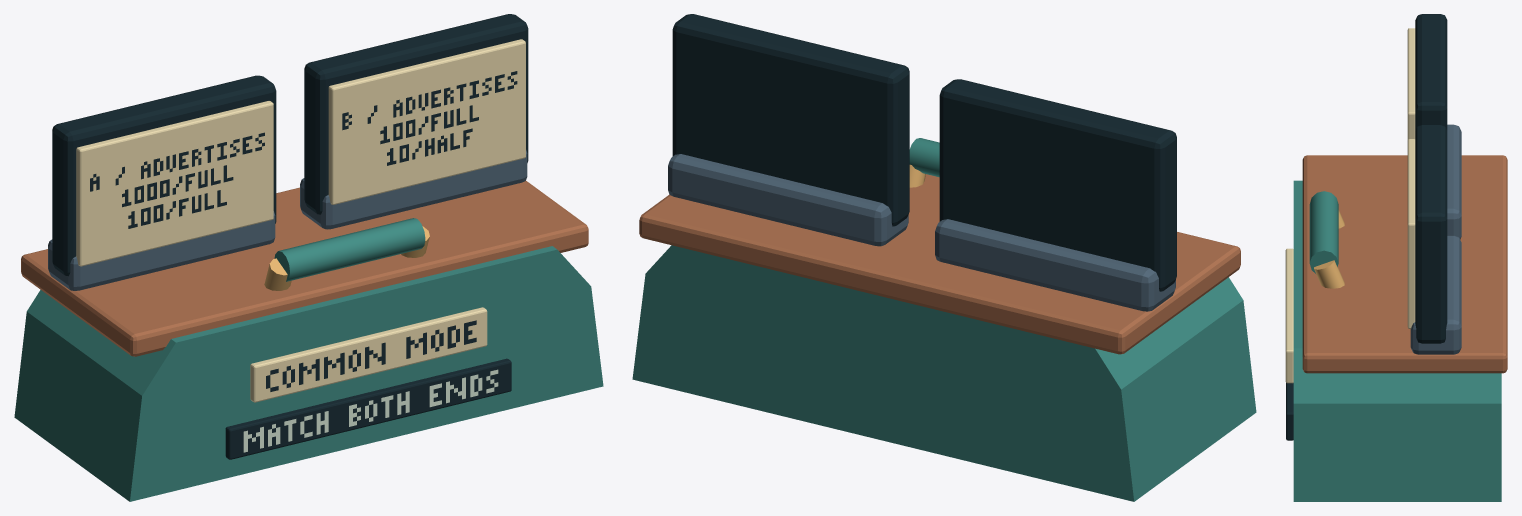
3 views of the same model, side by side, from view 1: azimuth 30°, elevation 25°; view 2: azimuth 150°, elevation 25°; view 3: azimuth 270°, elevation 25° (orthographic). The views are drawn at different scales.
Visible parts, largest first — view 1: PR094 enamel and hardware; view 2: PR094 enamel and hardware; view 3: PR094 enamel and hardware.
Boxes of the visible parts, x1=… form: PR094 enamel and hardware: x1=14, y1=14, x2=603, y2=501; PR094 enamel and hardware: x1=632, y1=14, x2=1256, y2=501; PR094 enamel and hardware: x1=1285, y1=14, x2=1507, y2=501.
Bounding box in the file's own units: 1.6 × 1.02 × 0.721.
